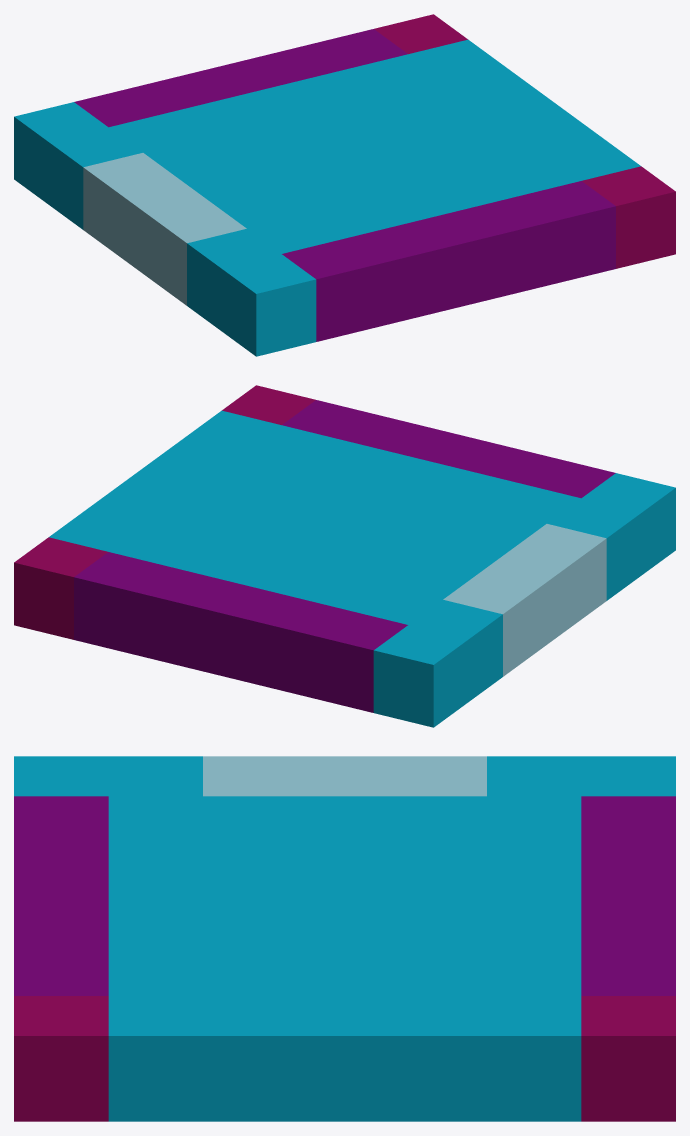
The model's file is Shirt00.gltf.
3 renders of one model, top to bottom at view 1: azimuth 30°, elevation 25°; view 2: azimuth 150°, elevation 25°; view 3: azimuth 270°, elevation 25°, orthographic. The views are drawn at different scales.
Size of the model in its own units: 7 by 1 by 7.
